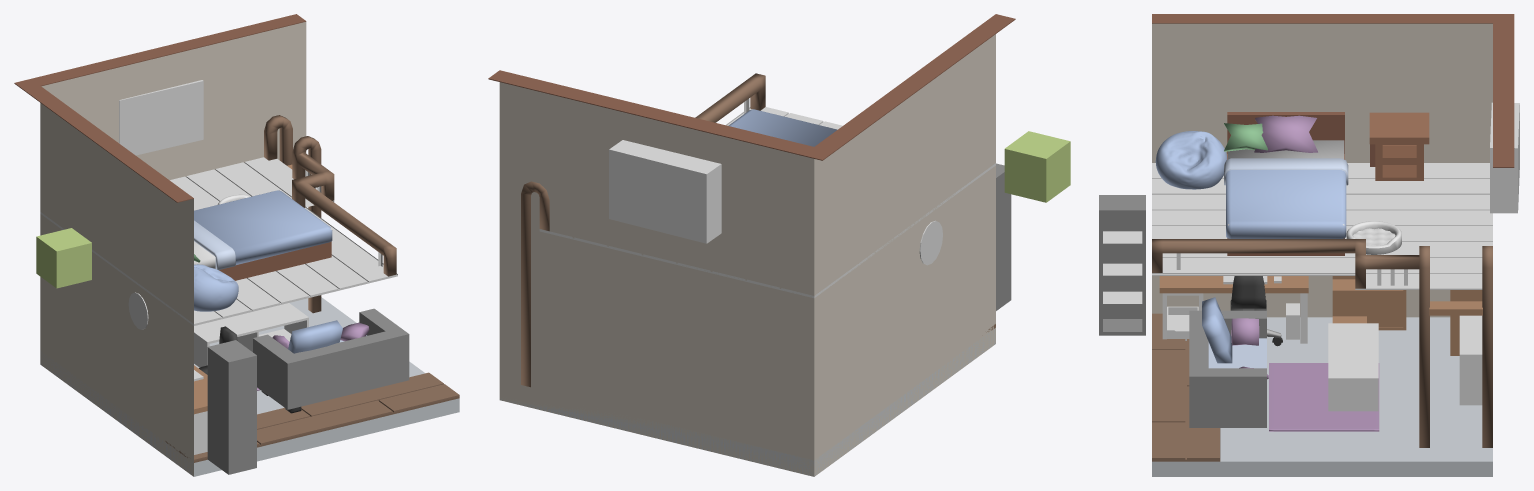
Rendered from isometric-room.glb.
3 renders of one model, left to right at view 1: azimuth 30°, elevation 25°; view 2: azimuth 150°, elevation 25°; view 3: azimuth 270°, elevation 25°, orthographic. The views are drawn at different scales.
Parts seen in each view (by area): view 1: walls, new-floor, Plane.014, sheet, floor, Cube, floor_tiles, new one, Cube.035, Cube.013, Cube.050, Cube.006 (+6 smaller); view 2: walls, Cube.013, new one, floor, Cube.035, Cube.006, Cube, sheet, new-floor, Clock; view 3: walls, floor, new-floor, sheet, Cube.035, new one, Plane.014, floor_tiles, Rug, Cube, Cube.050, Bean Bag (+24 smaller).
Boxes of the visible parts, x1=… form: walls: x1=40, y1=22, x2=306, y2=476; new-floor: x1=40, y1=157, x2=397, y2=325; Plane.014: x1=253, y1=308, x2=409, y2=409; sheet: x1=194, y1=190, x2=332, y2=270; floor: x1=40, y1=297, x2=459, y2=476; Cube: x1=207, y1=340, x2=256, y2=474; floor_tiles: x1=165, y1=372, x2=459, y2=462; new one: x1=14, y1=14, x2=306, y2=202; Cube.035: x1=264, y1=115, x2=396, y2=313; Cube.013: x1=119, y1=80, x2=203, y2=155; Cube.050: x1=194, y1=303, x2=308, y2=366; Cube.006: x1=36, y1=228, x2=91, y2=288; walls: x1=499, y1=34, x2=995, y2=476; Cube.013: x1=609, y1=140, x2=721, y2=243; new one: x1=488, y1=14, x2=1015, y2=160; floor: x1=499, y1=328, x2=995, y2=476; Cube.035: x1=521, y1=73, x2=765, y2=387; Cube.006: x1=1004, y1=131, x2=1070, y2=202; Cube: x1=996, y1=163, x2=1011, y2=310; sheet: x1=728, y1=109, x2=837, y2=146; new-floor: x1=539, y1=107, x2=995, y2=298; Clock: x1=919, y1=220, x2=942, y2=265; walls: x1=1152, y1=23, x2=1492, y2=317; floor: x1=1152, y1=317, x2=1492, y2=476; new-floor: x1=1152, y1=163, x2=1492, y2=289; sheet: x1=1224, y1=158, x2=1348, y2=238; Cube.035: x1=1152, y1=239, x2=1492, y2=447; new one: x1=1152, y1=14, x2=1514, y2=167; Plane.014: x1=1189, y1=310, x2=1266, y2=427; floor_tiles: x1=1152, y1=313, x2=1220, y2=461; Rug: x1=1269, y1=363, x2=1379, y2=431; Cube: x1=1099, y1=195, x2=1145, y2=335; Cube.050: x1=1328, y1=323, x2=1378, y2=411; Bean Bag: x1=1155, y1=131, x2=1227, y2=189.
Size of the model in its own units: 5.51 by 4.01 by 4.94.
